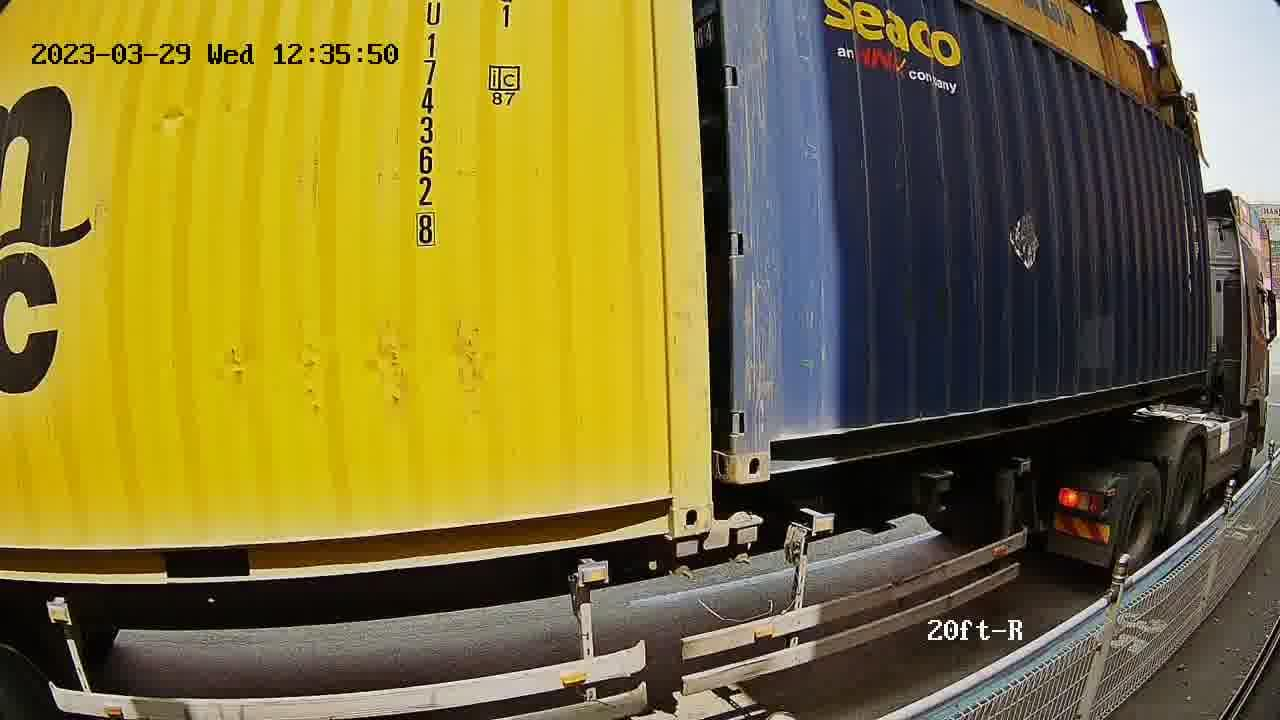Cone: (724, 509, 761, 564), (670, 537, 702, 581)
Hole_L: (732, 406, 802, 482)
Hole_R: (631, 470, 714, 538)
Tire: (1118, 467, 1162, 574), (1166, 450, 1205, 535)
